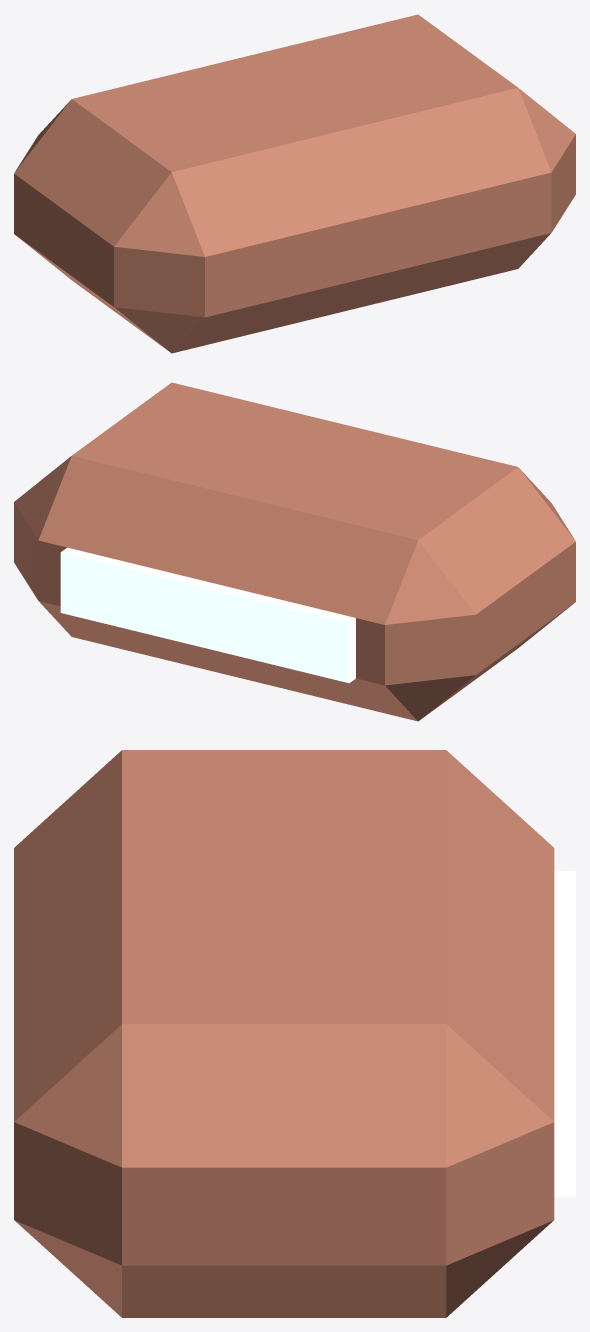
File: TH_Top_Crest.fbx
3 views of the same model, one above another, from view 1: azimuth 30°, elevation 25°; view 2: azimuth 150°, elevation 25°; view 3: azimuth 270°, elevation 25° (orthographic). The views are drawn at different scales.
Parts seen in each view (by area): view 1: TH_Top_Crest; view 2: TH_Top_Crest; view 3: TH_Top_Crest.
Boxes of the visible parts, bbox=[...] form: TH_Top_Crest: bbox=[14, 14, 575, 353]; TH_Top_Crest: bbox=[14, 382, 575, 721]; TH_Top_Crest: bbox=[14, 750, 575, 1317].
Bounding box in the file's own units: 0.8 × 0.3 × 0.52.
